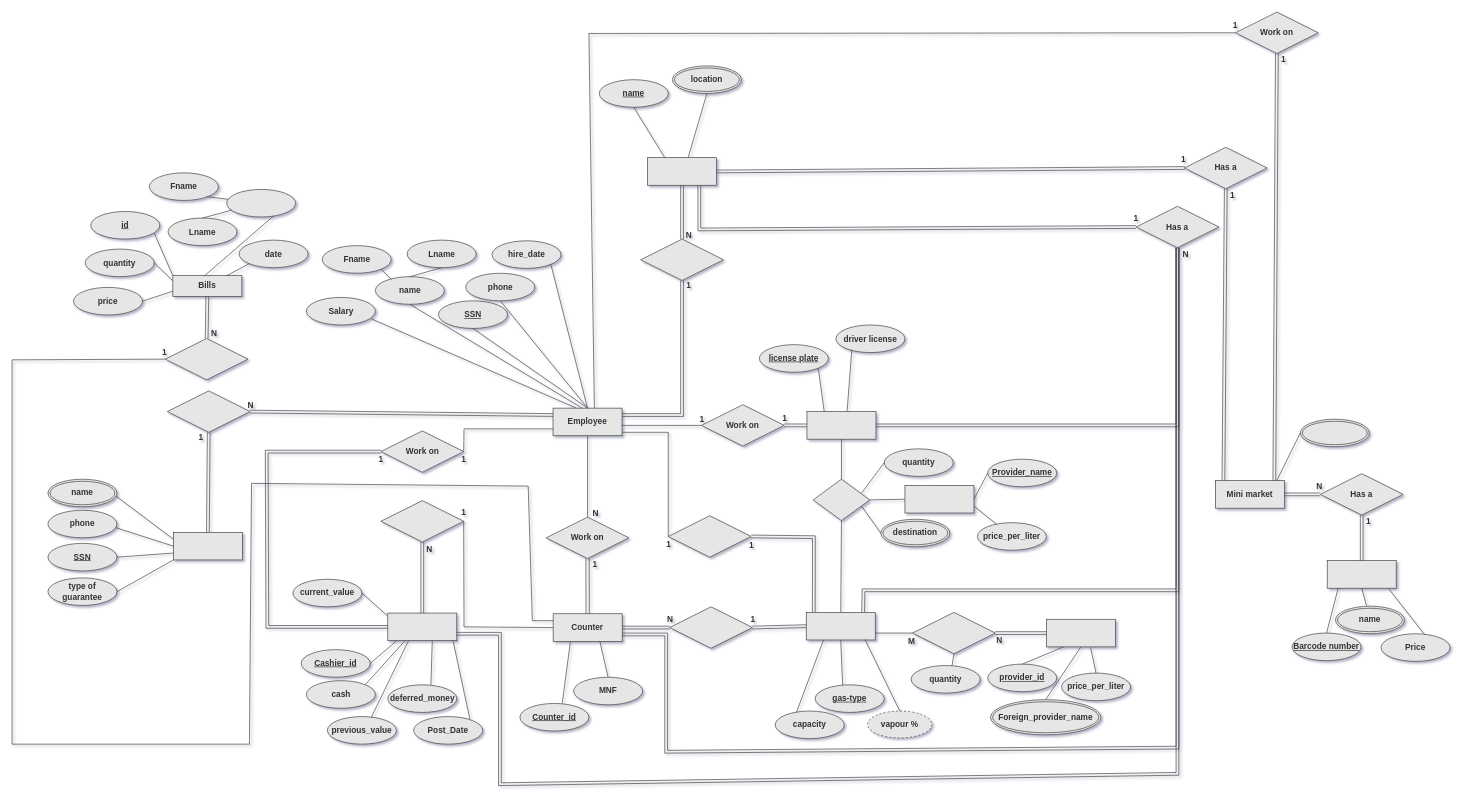
This 1466x802 diagram has some shape labels left out. Each missing label, with the box of its shape:
Cashier: (387, 612, 457, 641)
Clinet_name: (226, 189, 296, 217)
Foreign_provider: (1046, 619, 1115, 647)
FSupply: (912, 612, 995, 654)
Gas Stations: (647, 157, 717, 185)
Generate: (669, 606, 752, 648)
Guarantee: (167, 390, 250, 432)
Issues: (165, 338, 248, 380)
Post: (380, 500, 464, 542)
Product: (1327, 560, 1396, 588)
Supervise: (668, 515, 751, 557)
Supplier: (904, 485, 974, 513)
Tank: (806, 612, 875, 640)
trade mark: (1300, 418, 1369, 447)
Truck: (806, 411, 876, 439)
TSupply: (812, 479, 870, 521)
Warrantor: (173, 532, 242, 560)
Work in: (640, 238, 723, 280)
